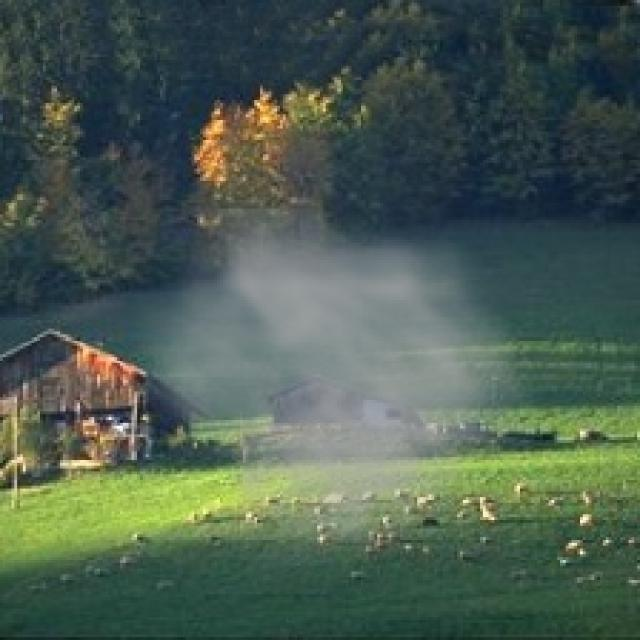smoke: (123, 208, 548, 583)
